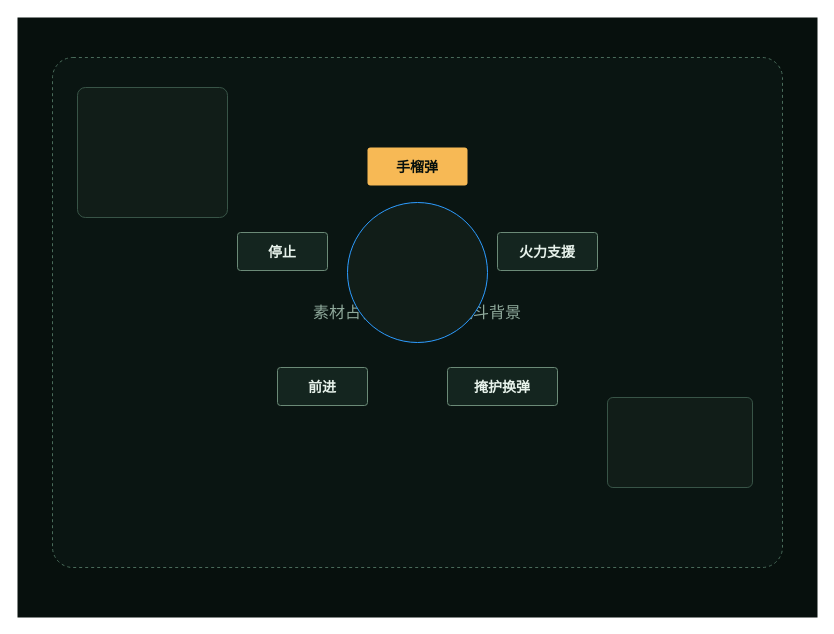
Image size: 834x634. Some labels were removed from this diagram. Here are the shapes that lost their labels. From the top down, the centre of each, then its label:
the point at 152,152: 小地图
the point at 417,272: 队友指令
the point at 679,442: 弹药 30/120 队友状态：待命
